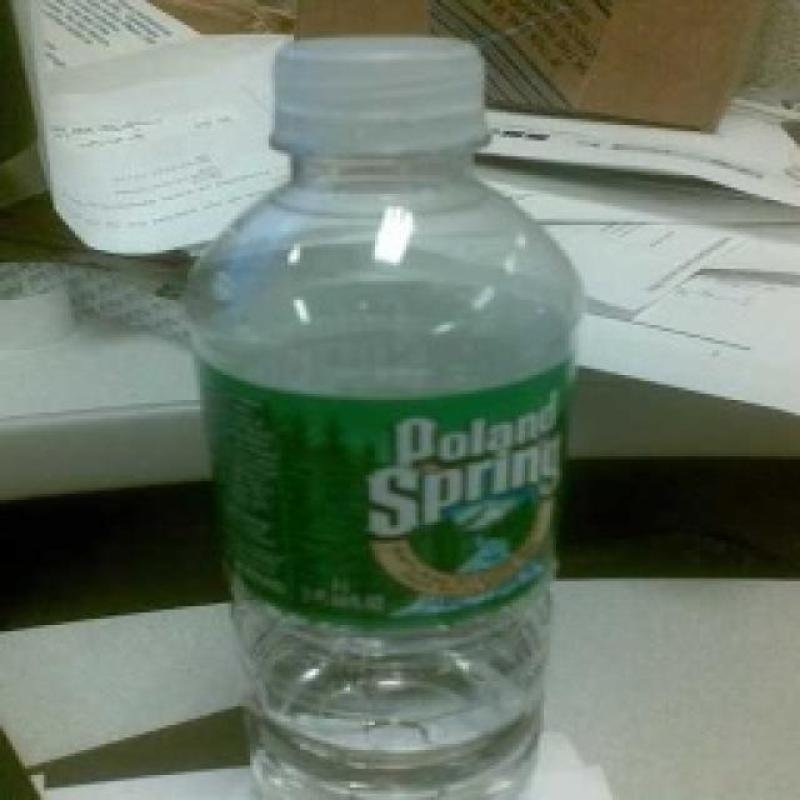botella: (195, 34, 583, 800)
